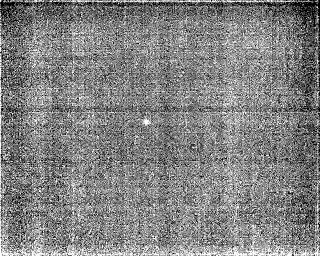BIRD: (141, 116, 152, 128)
